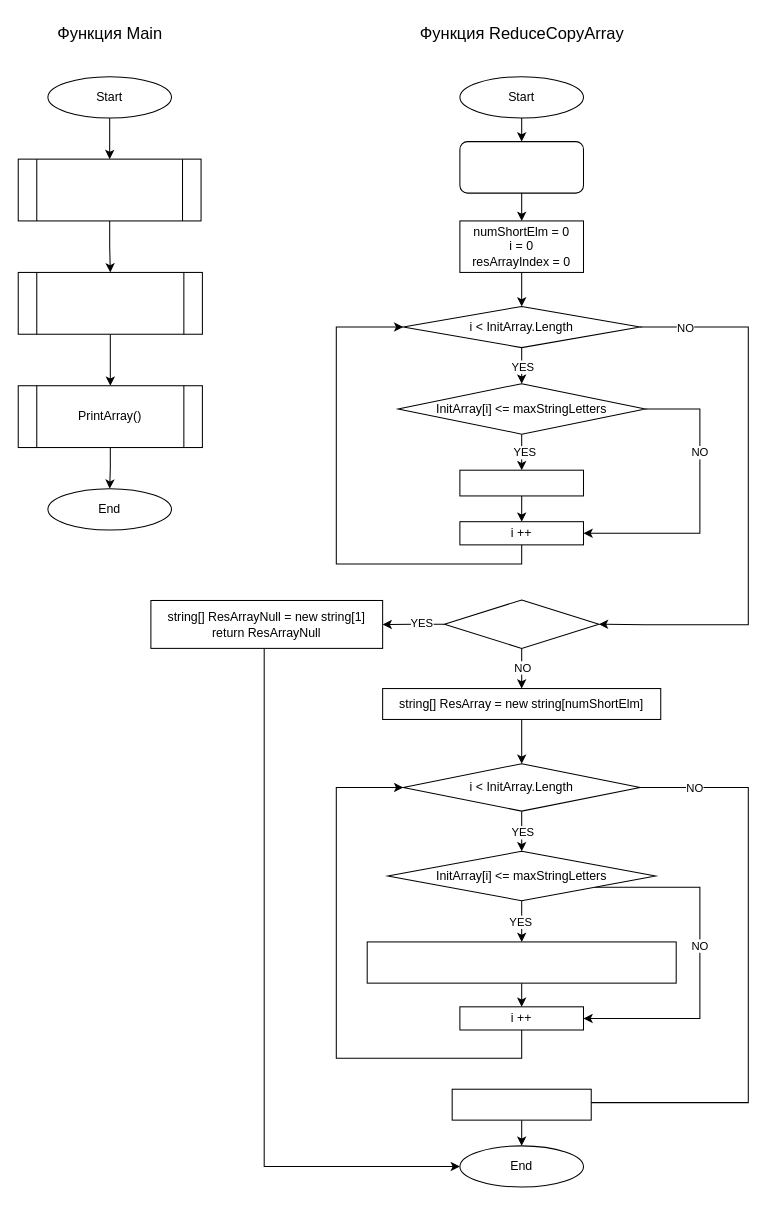
This 775x1205 diagram has some shape labels left out. The box of each missing label's shape, as (x1, y1, x2, y2) in pixels:
CreateInitArray(): (17, 158, 201, 221)
InitArray[] ResArray[] numMaxStringLetters: (459, 141, 583, 193)
numShortElm ++: (459, 469, 583, 496)
numShortElm == 0: (443, 599, 599, 648)
ReduceCopyArray(): (17, 271, 202, 334)
ResArray[resArrayIndex] = InitArray[i] resArrayIndex ++: (366, 941, 676, 983)
return ResArray: (451, 1088, 591, 1120)
